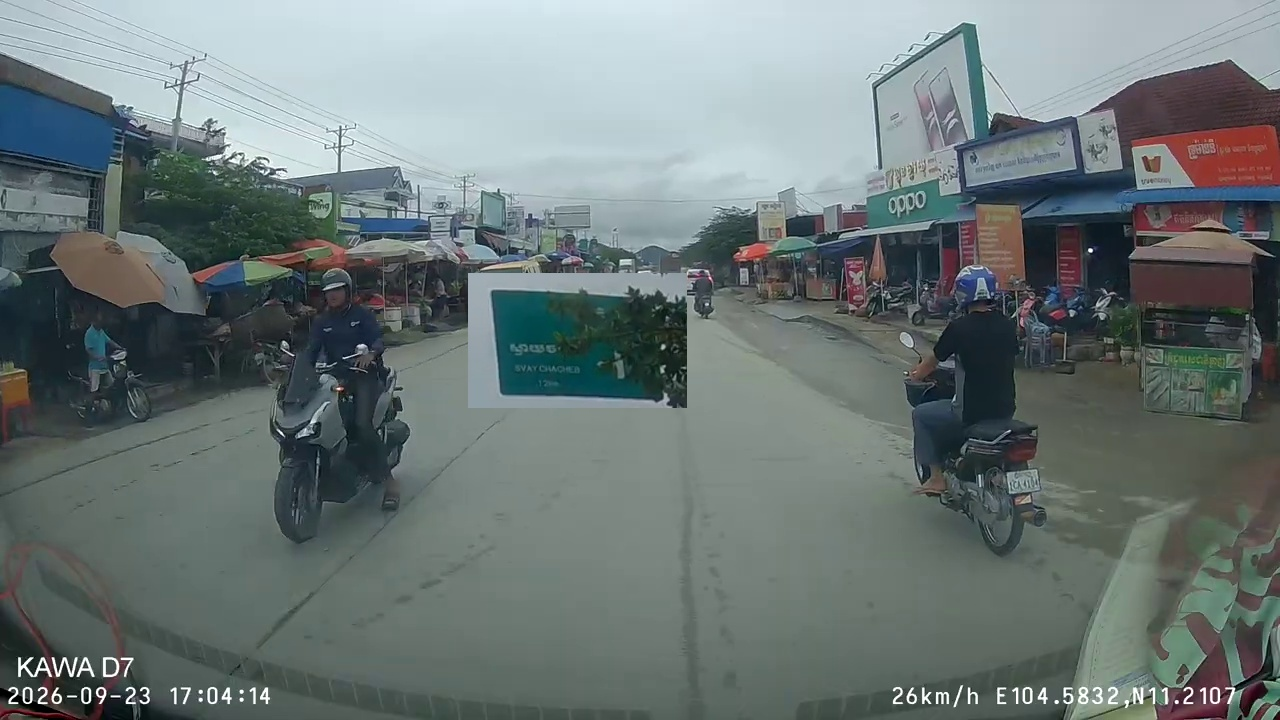direction_sign: (468, 273, 687, 408)
